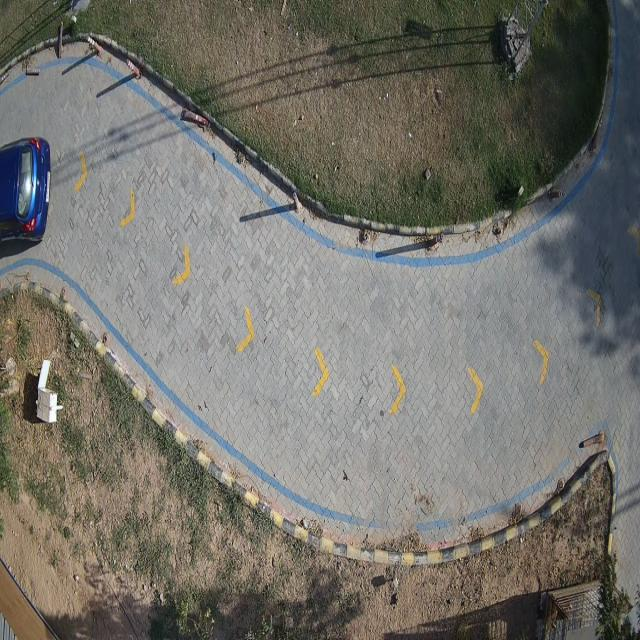car: (0, 138, 51, 241)
